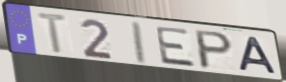2: (77, 17, 115, 61)
A: (238, 35, 280, 76)
E: (153, 25, 198, 69)
I: (132, 20, 149, 66)
P: (193, 28, 235, 70)
T: (35, 11, 72, 56)
